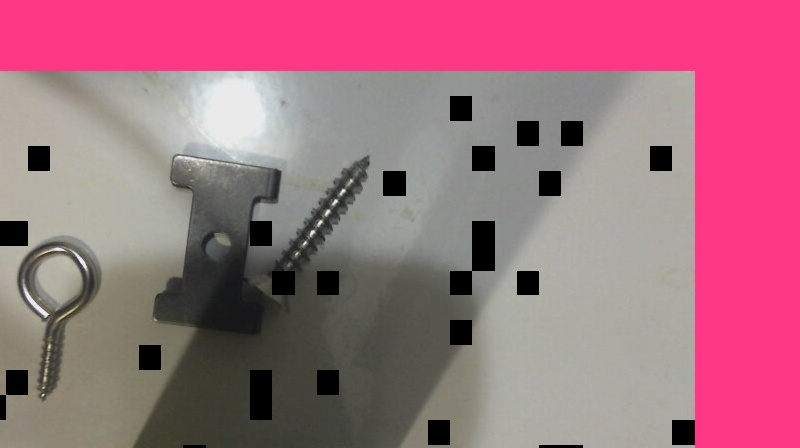O001: (7, 238, 97, 407)
O002: (150, 152, 282, 337)
S001: (245, 154, 374, 320)
